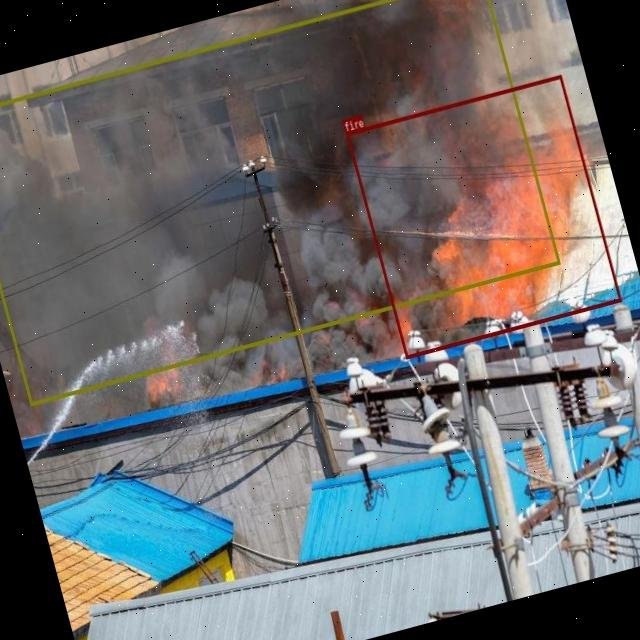fire: (345, 73, 621, 358)
smoke: (0, 0, 559, 405)
